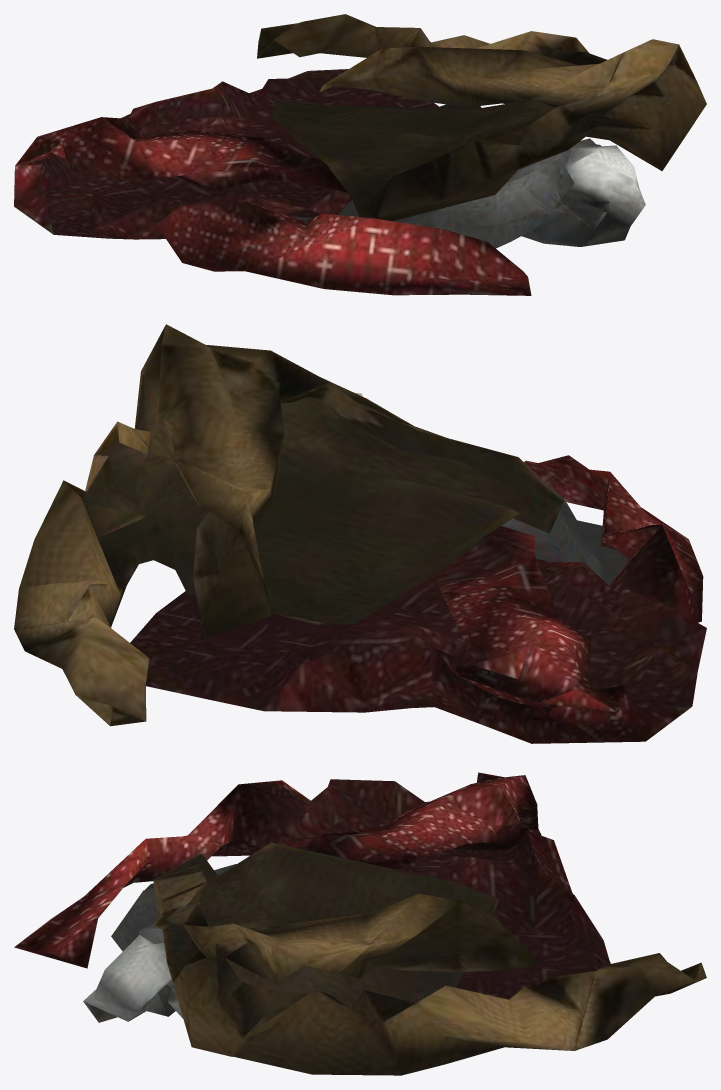
Rendered from pile3_1_lod1_web.glb.
3 renders of one model, top to bottom at view 1: azimuth 30°, elevation 25°; view 2: azimuth 150°, elevation 25°; view 3: azimuth 270°, elevation 25°, orthographic. The views are drawn at different scales.
Visible parts, largest first — view 1: pile3_1_shirt1_Cloth, pile3_1_sweater2_Cloth, pile3_1_tshirt0_Cloth; view 2: pile3_1_sweater2_Cloth, pile3_1_shirt1_Cloth, pile3_1_tshirt0_Cloth; view 3: pile3_1_sweater2_Cloth, pile3_1_shirt1_Cloth, pile3_1_tshirt0_Cloth.
Part boxes in pixels (x1,y1,x2,y2): pile3_1_shirt1_Cloth: [14, 69, 531, 295]; pile3_1_sweater2_Cloth: [257, 14, 706, 221]; pile3_1_tshirt0_Cloth: [292, 138, 645, 248]; pile3_1_sweater2_Cloth: [14, 324, 563, 726]; pile3_1_shirt1_Cloth: [130, 455, 706, 743]; pile3_1_tshirt0_Cloth: [354, 392, 628, 585]; pile3_1_sweater2_Cloth: [153, 842, 706, 1075]; pile3_1_shirt1_Cloth: [14, 772, 610, 999]; pile3_1_tshirt0_Cloth: [83, 864, 236, 1022].
Bounding box in the file's own units: 0.8784 × 0.1975 × 0.9053.
Materials: 1 (1 with a texture image).
